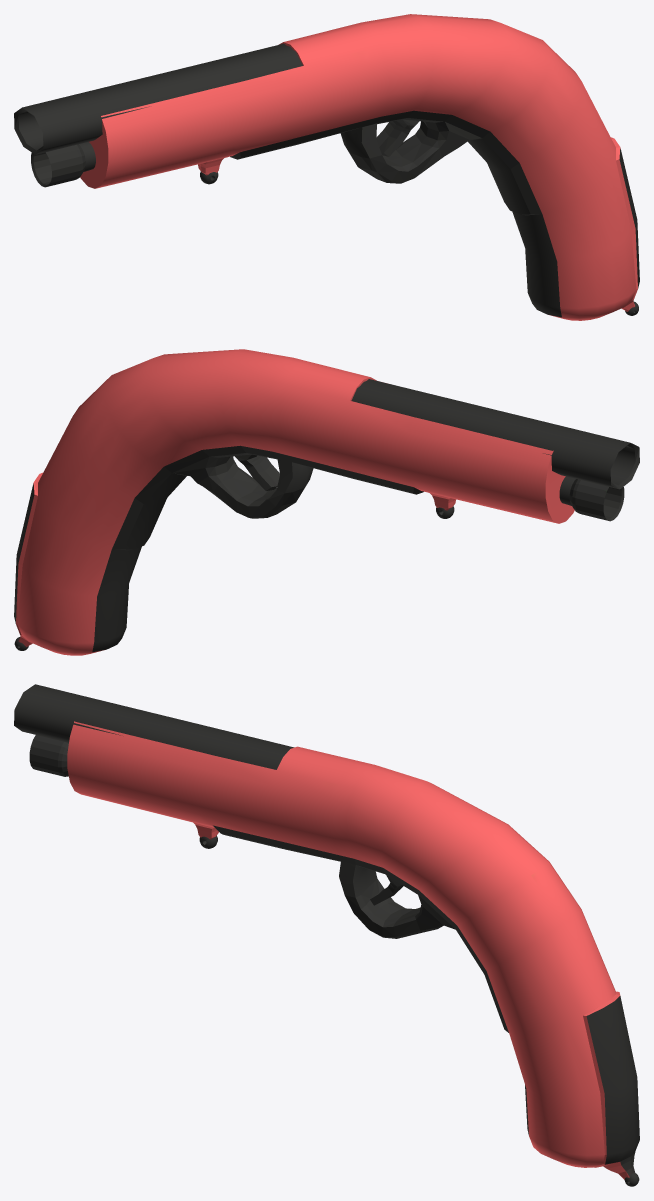
Rendered from Gun.FBX.
3 renders of one model, top to bottom at view 1: azimuth 30°, elevation 25°; view 2: azimuth 150°, elevation 25°; view 3: azimuth 330°, elevation 25°, orthographic.
Parts seen in each view (by area): view 1: Cylinder001; view 2: Cylinder001; view 3: Cylinder001.
Boxes of the visible parts, box(x1,y1,x2,y2) form: Cylinder001: box(14, 14, 639, 320); Cylinder001: box(14, 349, 639, 655); Cylinder001: box(14, 684, 639, 1186).
Size of the model in its own units: 56.99 by 31.69 by 8.16.
Materials: 1 (1 with a texture image).
